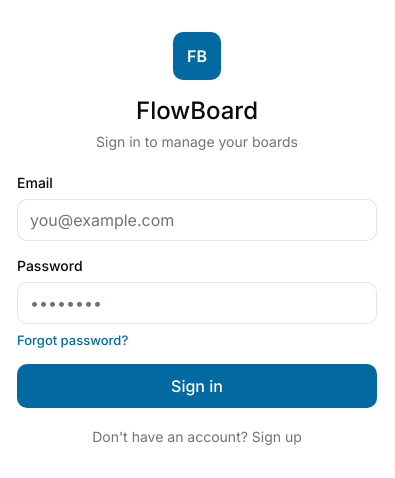
Test case: AuthScreen › shows auth errors
The image size is (395, 478).
In the field labelled "Email": (197, 220) [17,198,377,240], type "a@b.co"
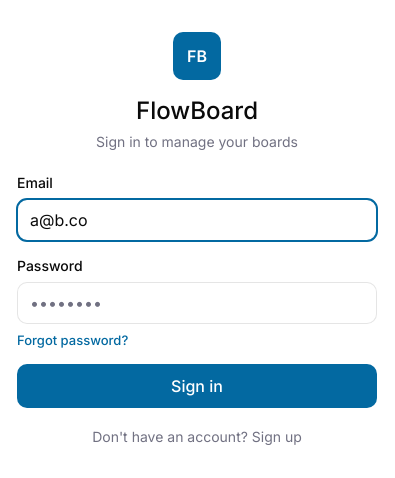
In the password field labelled "Password": (197, 302) [17,282,377,324], type "secret1"
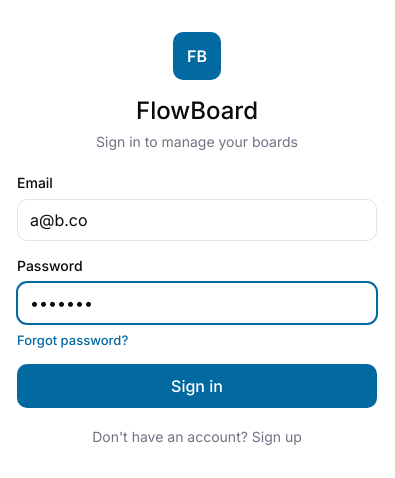
Click the button "Sign in": (197, 386) [17,364,377,408]
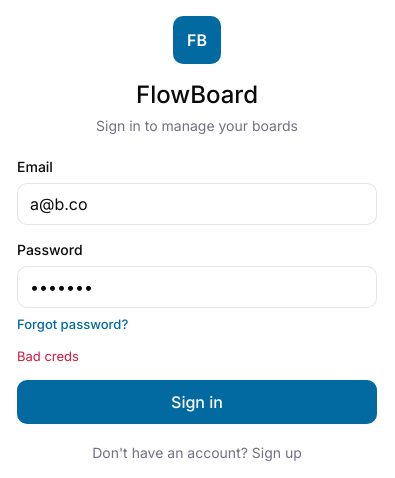
Expected: the text "Bad creds" is shown, [17,348,79,364]
